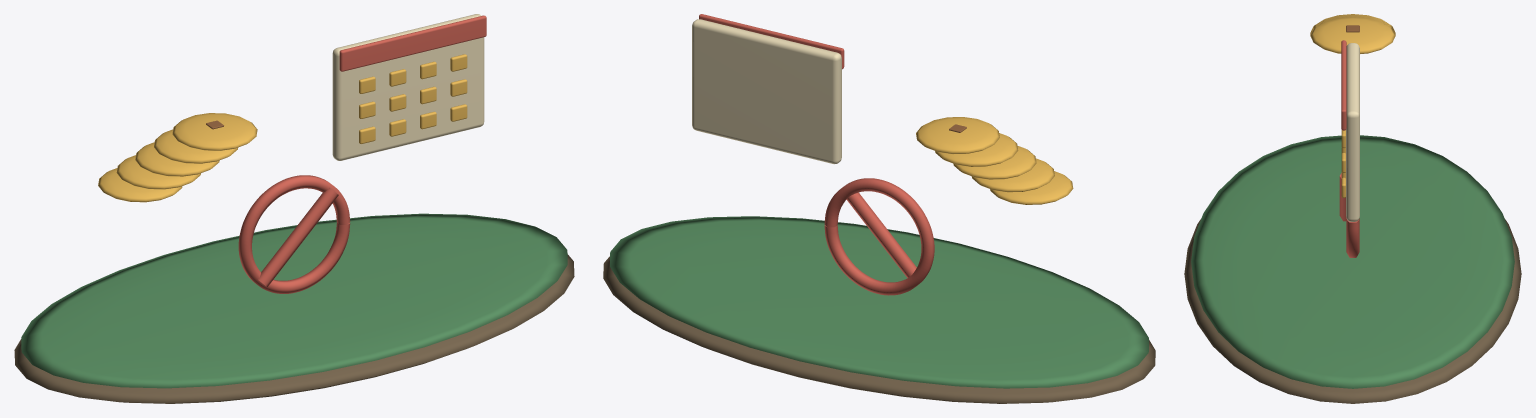
File: complete-first-wrong-old-coin.glb
3 renders of one model, left to right at view 1: azimuth 30°, elevation 25°; view 2: azimuth 150°, elevation 25°; view 3: azimuth 270°, elevation 25°, orthographic.
Parts seen in each view (by area): view 1: complete-first-wrong-old-coin_surface_01, complete-first-wrong-old-coin_surface_04, complete-first-wrong-old-coin_surface_02, complete-first-wrong-old-coin_surface_00, complete-first-wrong-old-coin_surface_05; view 2: complete-first-wrong-old-coin_surface_01, complete-first-wrong-old-coin_surface_04, complete-first-wrong-old-coin_surface_00, complete-first-wrong-old-coin_surface_02, complete-first-wrong-old-coin_surface_05; view 3: complete-first-wrong-old-coin_surface_01, complete-first-wrong-old-coin_surface_00, complete-first-wrong-old-coin_surface_02, complete-first-wrong-old-coin_surface_04, complete-first-wrong-old-coin_surface_05.
Boxes of the visible parts, x1,y1,x2,y2 form: complete-first-wrong-old-coin_surface_01: (21, 213, 567, 388); complete-first-wrong-old-coin_surface_04: (332, 14, 484, 160); complete-first-wrong-old-coin_surface_02: (98, 54, 467, 202); complete-first-wrong-old-coin_surface_00: (14, 254, 574, 403); complete-first-wrong-old-coin_surface_05: (238, 15, 486, 293); complete-first-wrong-old-coin_surface_01: (610, 216, 1148, 388); complete-first-wrong-old-coin_surface_04: (692, 19, 841, 164); complete-first-wrong-old-coin_surface_00: (603, 256, 1155, 403); complete-first-wrong-old-coin_surface_02: (916, 117, 1073, 204); complete-first-wrong-old-coin_surface_05: (699, 14, 934, 295); complete-first-wrong-old-coin_surface_01: (1191, 135, 1514, 388); complete-first-wrong-old-coin_surface_00: (1184, 219, 1521, 403); complete-first-wrong-old-coin_surface_02: (1310, 14, 1395, 197); complete-first-wrong-old-coin_surface_04: (1346, 43, 1359, 221); complete-first-wrong-old-coin_surface_05: (1339, 40, 1359, 257).
Bounding box in the file's own units: 4.56 × 2.21 × 2.5.
